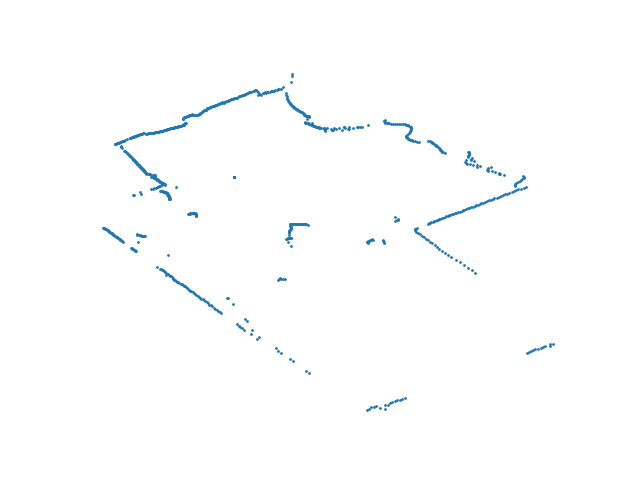person: (284, 221, 312, 250)
